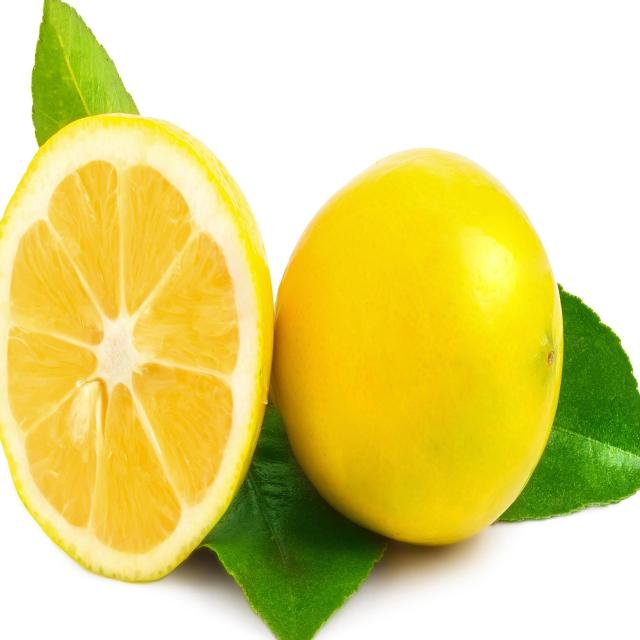lemon: (0, 102, 300, 589), (257, 140, 568, 556)
